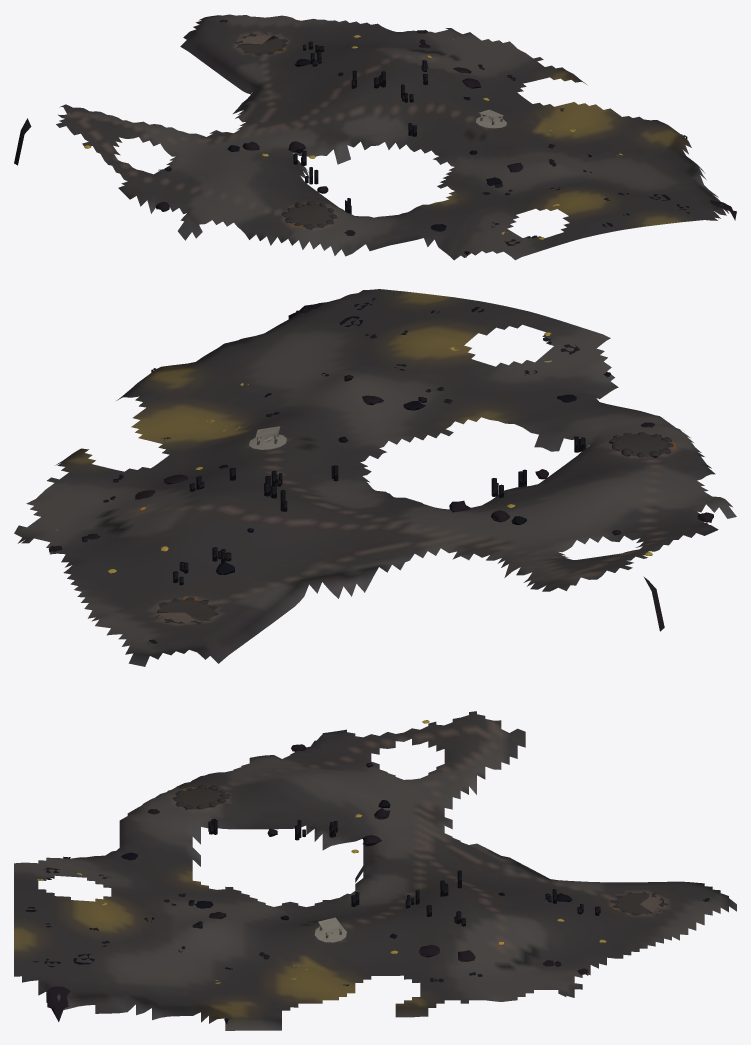
The model's file is ash_isl_hot_spring.glb.
The picture shows the model from 3 angles, top to bottom: view 1: azimuth 30°, elevation 25°; view 2: azimuth 150°, elevation 25°; view 3: azimuth 270°, elevation 25°; orthographic projection. The views are drawn at different scales.
Parts seen in each view (by area): view 1: ash_isl_hot_spring; view 2: ash_isl_hot_spring; view 3: ash_isl_hot_spring.
Boxes of the visible parts, x1,y1,x2,y2 form: ash_isl_hot_spring: (14, 14, 736, 260); ash_isl_hot_spring: (14, 289, 736, 666); ash_isl_hot_spring: (14, 711, 736, 1030).
Bounding box in the file's own units: 162 × 20.23 × 178.
